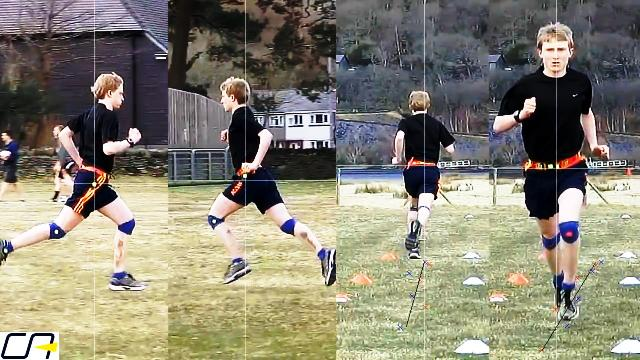berlari: (490, 12, 614, 332), (5, 65, 147, 296), (197, 72, 336, 292), (386, 88, 462, 260)
